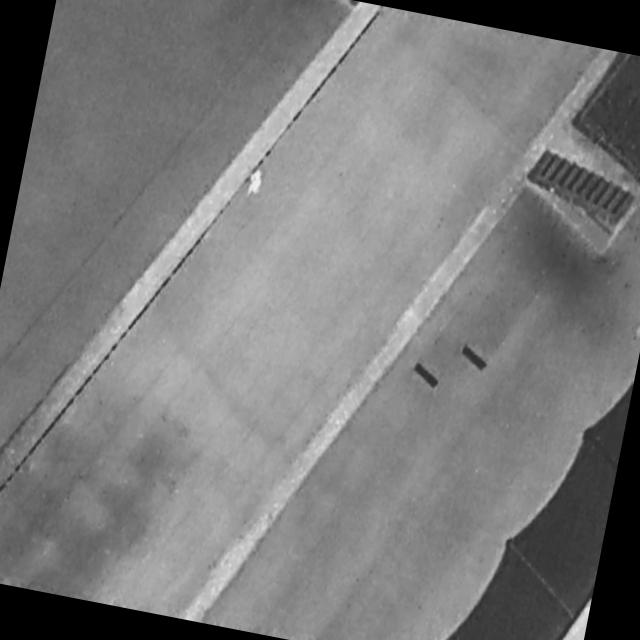person: (246, 168, 266, 201)
